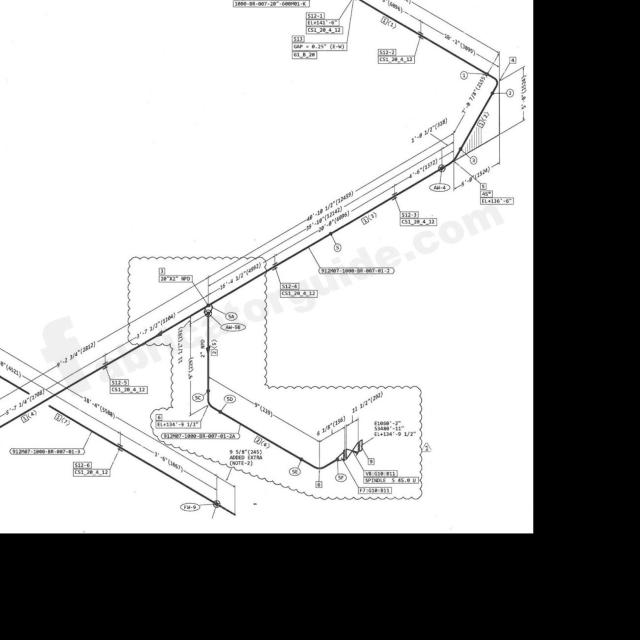Item number: (73, 460, 102, 476), (363, 469, 398, 480), (377, 48, 411, 58), (481, 196, 515, 205), (478, 111, 490, 126), (110, 377, 128, 386), (401, 209, 419, 218), (480, 191, 493, 203), (335, 472, 347, 483), (480, 184, 490, 194), (368, 457, 376, 467)
Measrement: (23, 278, 210, 382), (238, 202, 357, 267), (122, 433, 220, 492), (413, 77, 487, 143), (233, 389, 319, 441), (144, 444, 218, 499), (421, 18, 497, 68), (55, 352, 105, 383), (454, 160, 499, 191), (381, 1, 421, 24), (1, 355, 33, 382), (518, 63, 529, 125)
Pipeline: (8, 136, 464, 450)
Symbol: (300, 453, 339, 472), (439, 142, 460, 173)
Weld number: (288, 466, 301, 477)
other: (373, 419, 416, 438), (227, 447, 264, 467), (233, 0, 310, 9), (155, 432, 241, 440), (294, 41, 347, 53), (9, 448, 86, 456), (319, 267, 391, 275), (305, 23, 345, 36), (376, 54, 415, 65), (110, 385, 149, 395), (281, 290, 319, 299), (159, 275, 193, 283), (292, 50, 318, 60)
